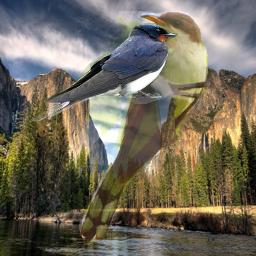Cuckoo: (79, 11, 208, 246)
Swallow: (29, 23, 178, 126)
